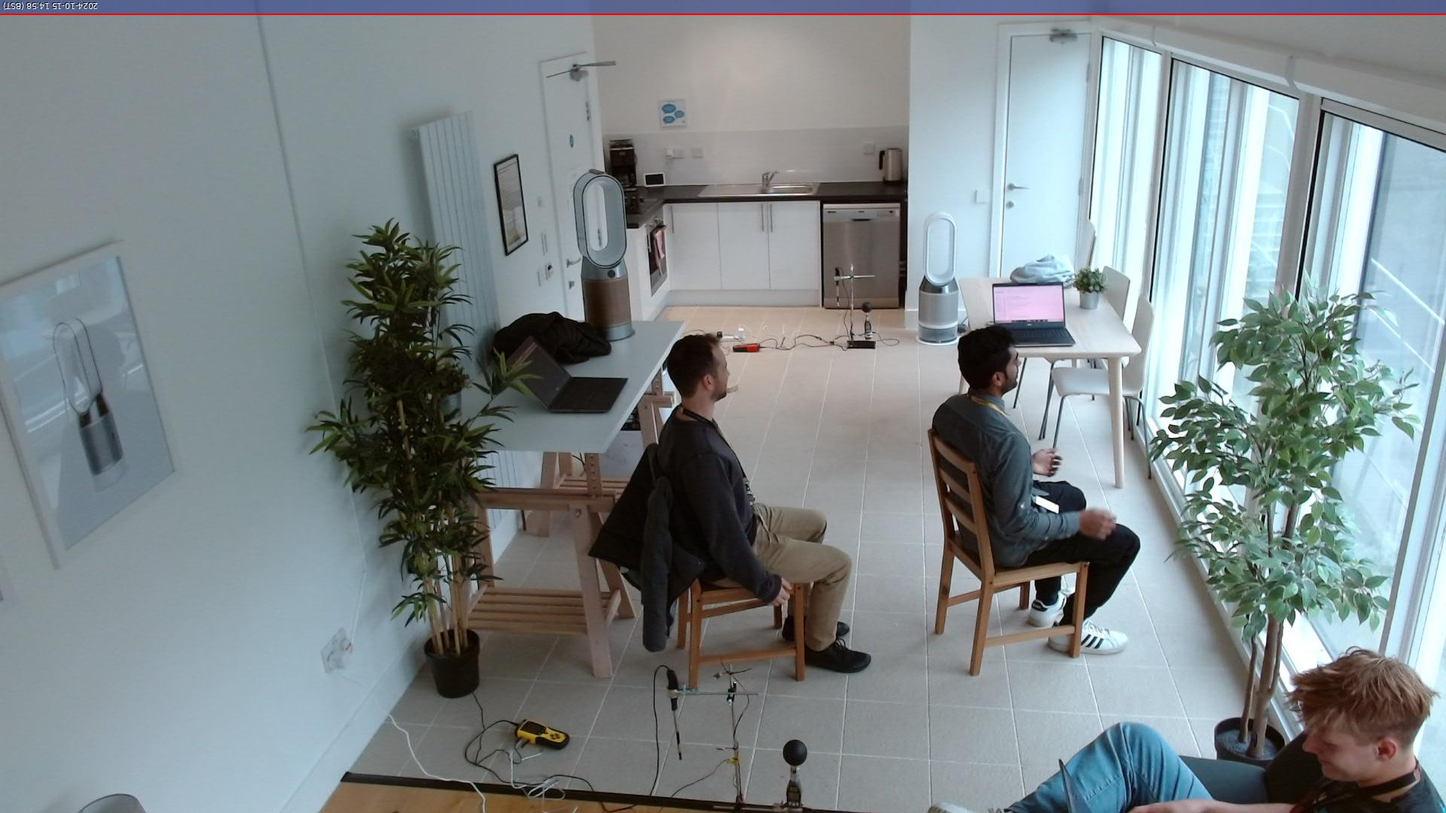long sleeve shirt: (928, 388, 1083, 572)
short sleeve shirt: (1289, 765, 1445, 813)
sweater: (655, 405, 786, 606)
trousers: (714, 500, 853, 651), (1000, 718, 1220, 813), (1009, 479, 1144, 629)
